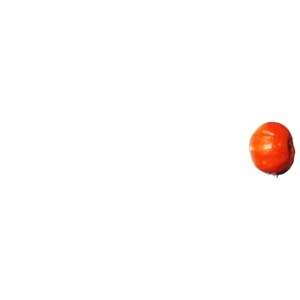tangerina: (249, 124, 296, 177)
